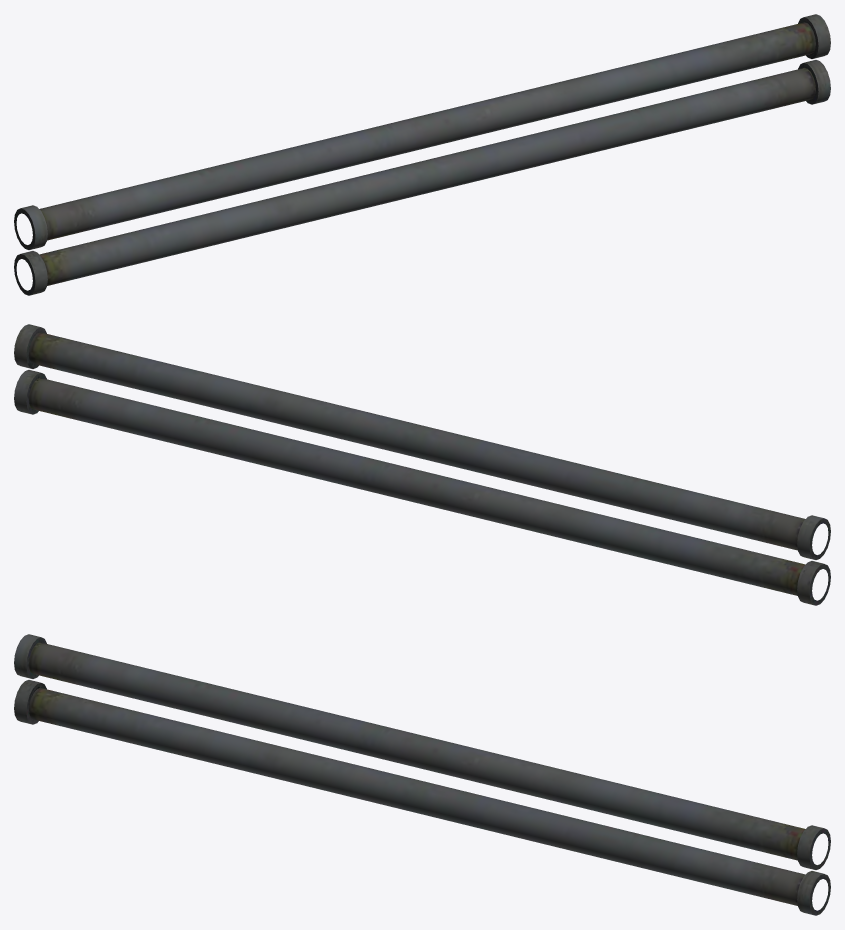
3 views of the same model, one above another, from view 1: azimuth 30°, elevation 25°; view 2: azimuth 150°, elevation 25°; view 3: azimuth 330°, elevation 25° (orthographic).
Visible parts, largest first — view 1: body0_model0_lod0_mesh0; view 2: body0_model0_lod0_mesh0; view 3: body0_model0_lod0_mesh0.
Boxes of the visible parts, x1=… form: body0_model0_lod0_mesh0: x1=14, y1=14, x2=830, y2=295; body0_model0_lod0_mesh0: x1=14, y1=324, x2=830, y2=605; body0_model0_lod0_mesh0: x1=14, y1=634, x2=830, y2=915.
Size of the model in its own units: 128 by 12.98 by 5.98.
1 material, 1 textured.
